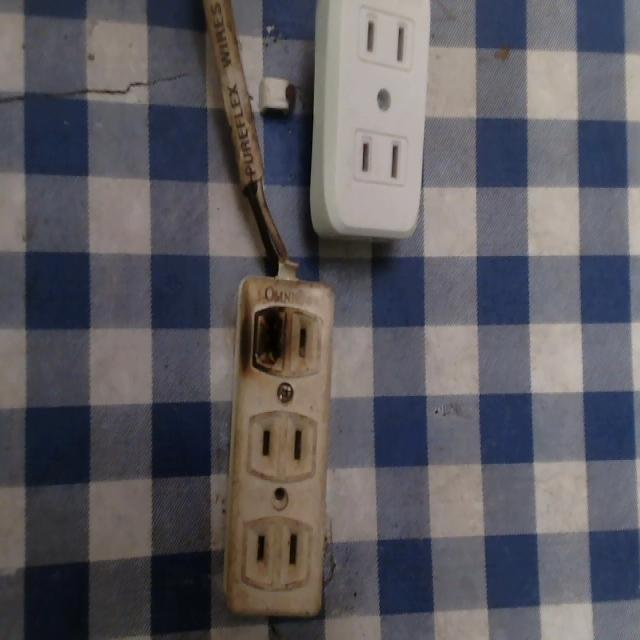-: (249, 302, 290, 374)
